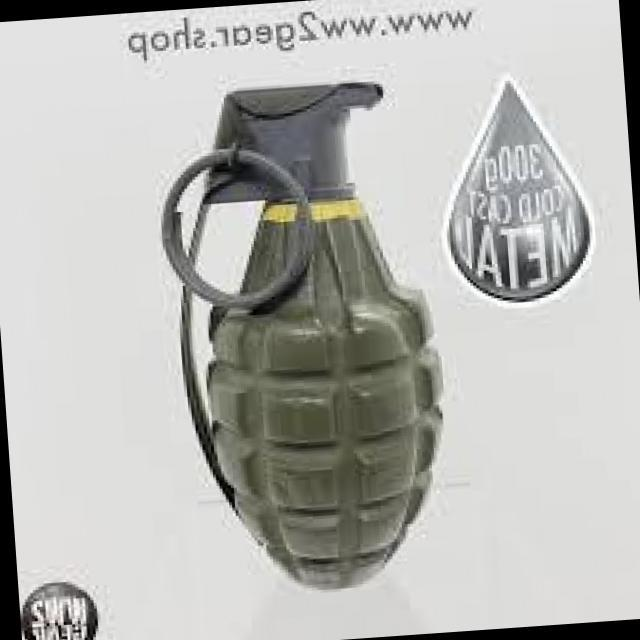grenade: (152, 76, 450, 602)
